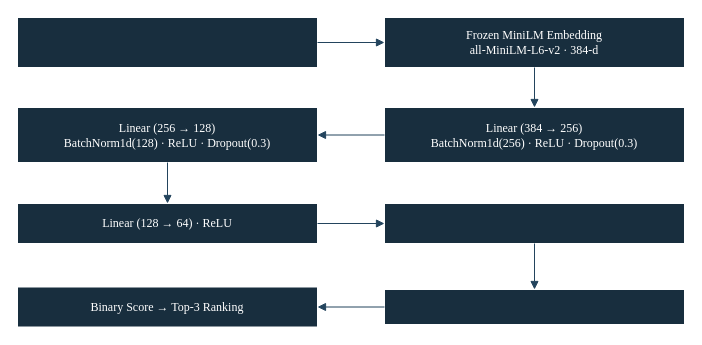
Some shapes in this 702 by 345 pixel diagram are drawn without their labels. The centre of each missing label's shape, as x and y in pixels:
Output Linear (64 → 1): point (534, 223)
Question + Option prompt + " [SEP] " + option: point (167, 42)
Sigmoid: point (534, 306)
